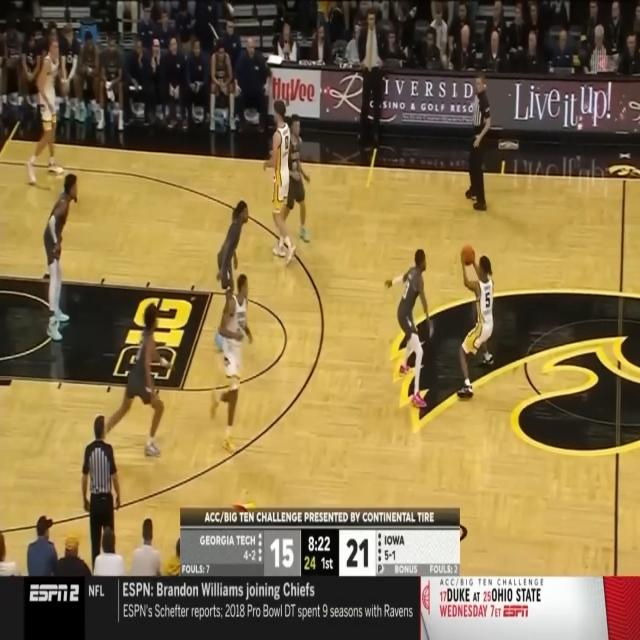Ball: (461, 241, 475, 271)
Period: (321, 555, 335, 572)
Player: (101, 303, 175, 460), (207, 273, 252, 454), (386, 248, 432, 408), (26, 29, 66, 189), (42, 172, 78, 338), (262, 99, 296, 270), (457, 252, 494, 401), (218, 202, 250, 320), (288, 110, 311, 244)
Ref: (82, 413, 121, 565), (465, 73, 491, 211)
Shot Clock: (305, 552, 317, 572)
Team Name: (198, 531, 259, 550), (383, 532, 406, 548)
Team Points: (268, 534, 297, 571), (343, 535, 372, 570)
Time Remaining: (306, 533, 332, 555)
